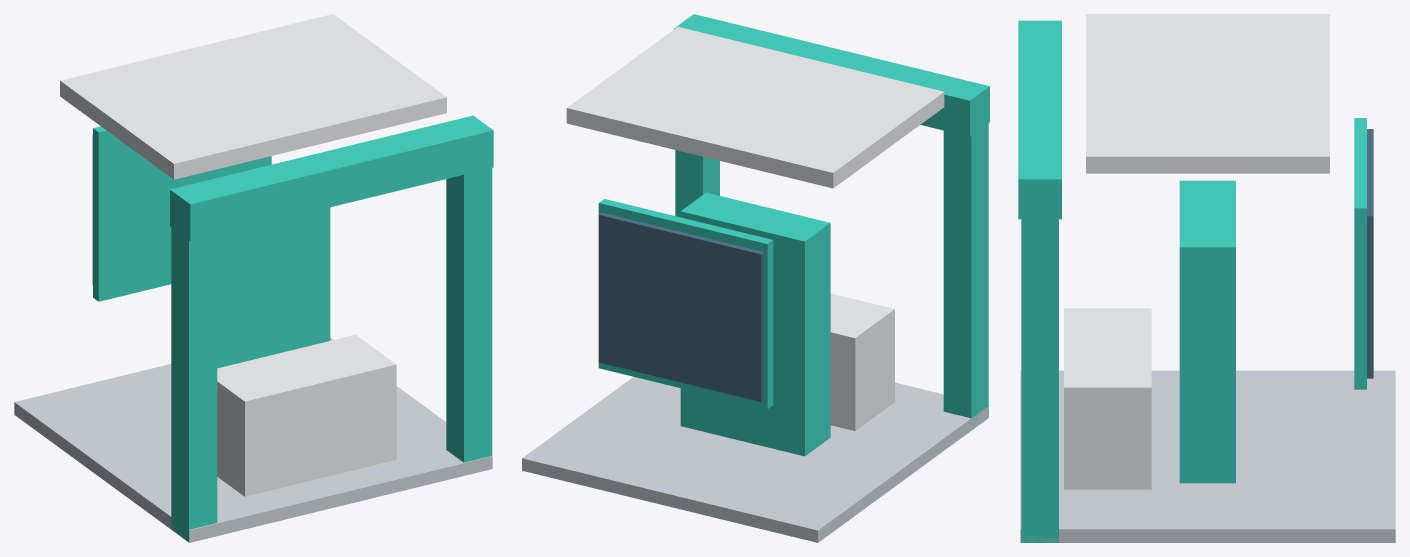
The picture shows the model from 3 angles, left to right: view 1: azimuth 30°, elevation 25°; view 2: azimuth 150°, elevation 25°; view 3: azimuth 270°, elevation 25°; orthographic projection. The views are drawn at different scales.
Parts seen in each view (by area): view 1: Exhibition Booth Concept; view 2: Exhibition Booth Concept; view 3: Exhibition Booth Concept.
Part boxes in pixels (box(x1,y1,x2,y2)): Exhibition Booth Concept: box(14, 14, 493, 542); Exhibition Booth Concept: box(522, 14, 989, 542); Exhibition Booth Concept: box(1018, 14, 1395, 542).
Size of the model in its own units: 3 by 3.34 by 3.01.
